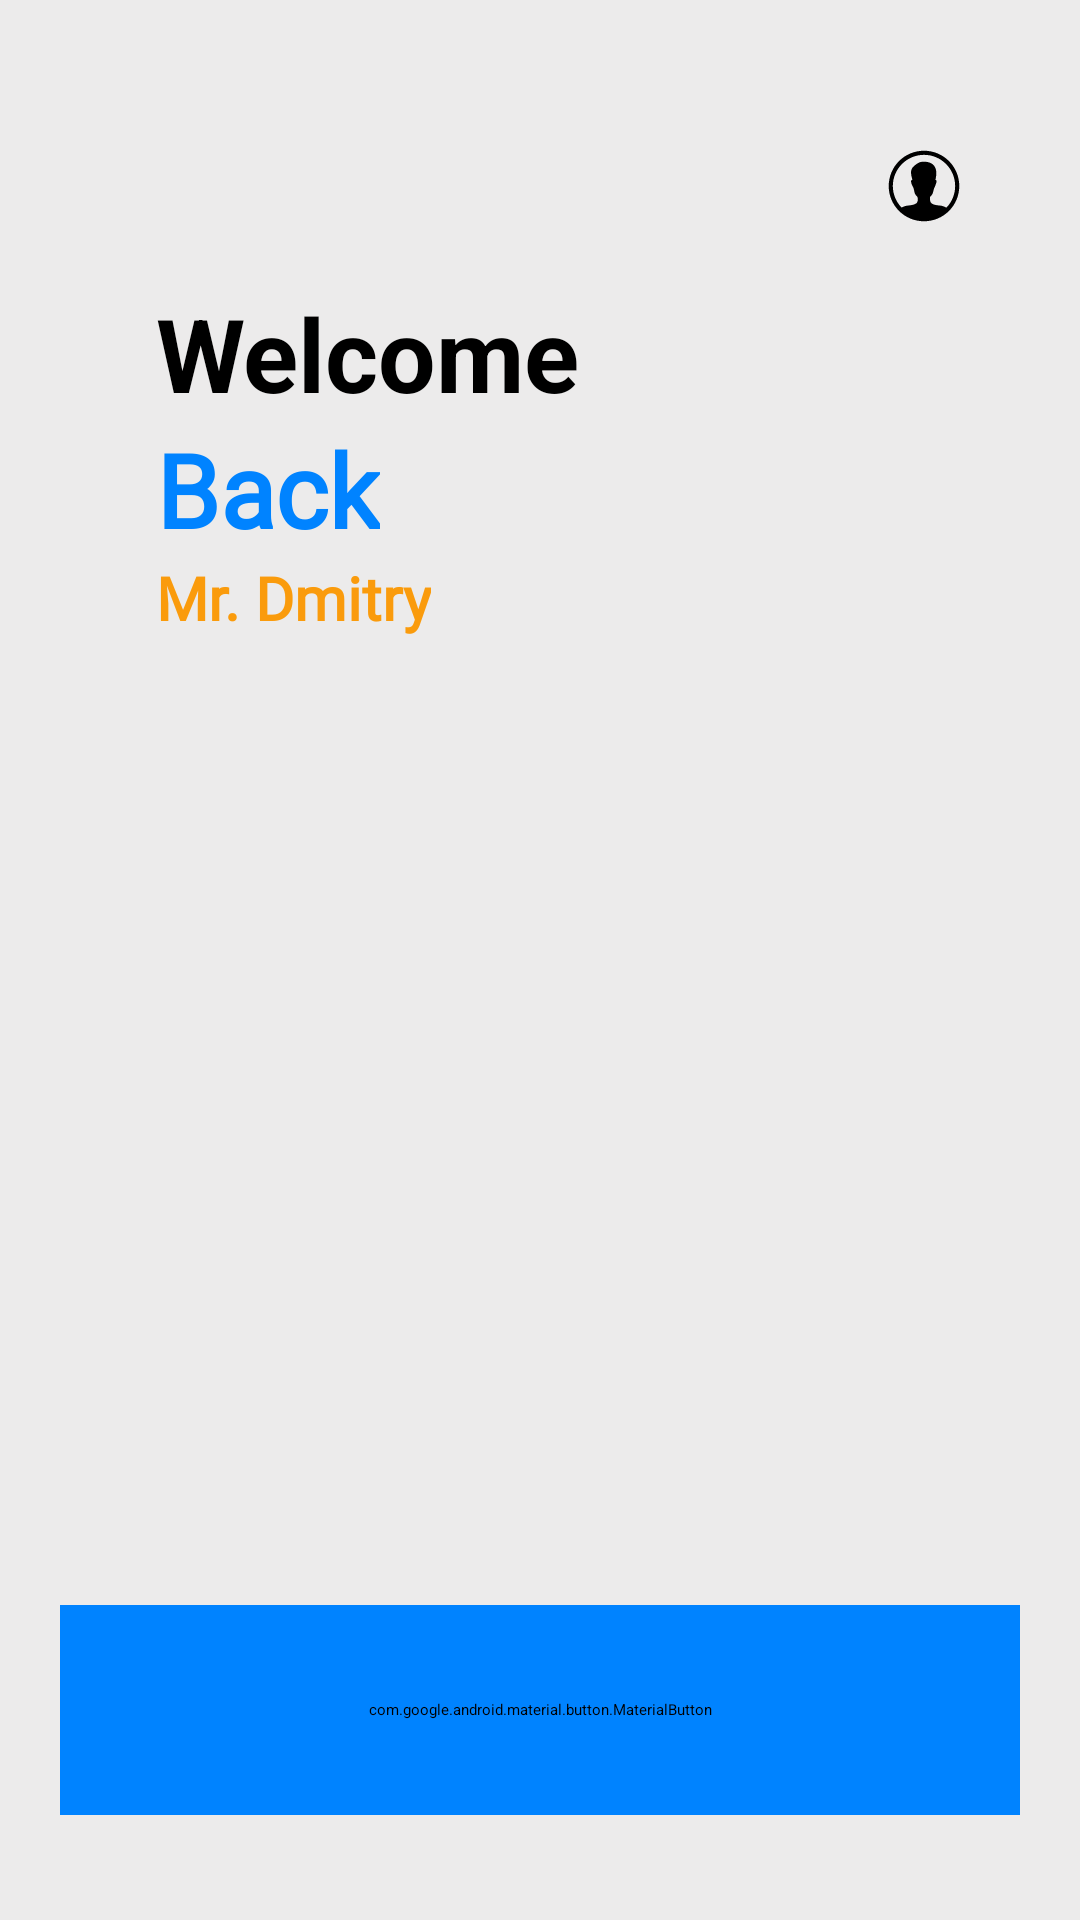

Point at icon controls on the screen. Image size 1080px×1920px, points as (x,y).
person: (924,186)
